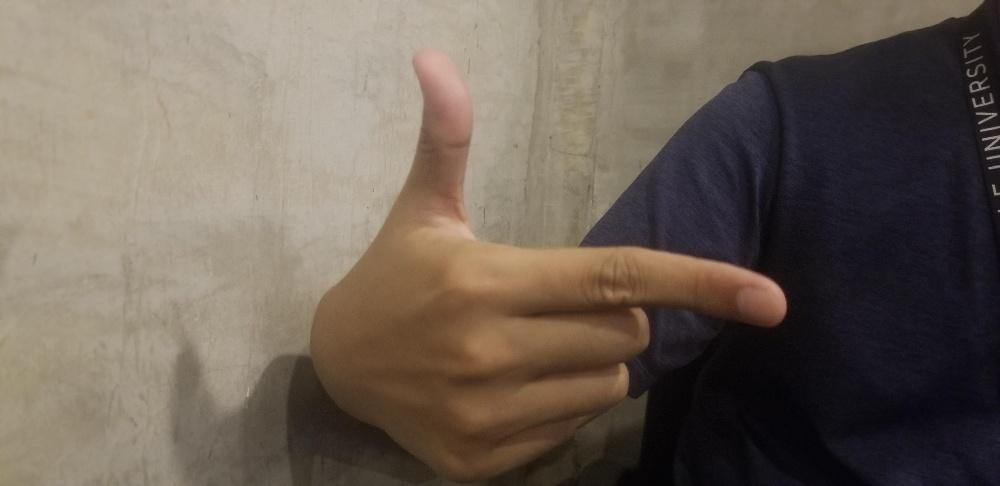g: (353, 44, 786, 485)
